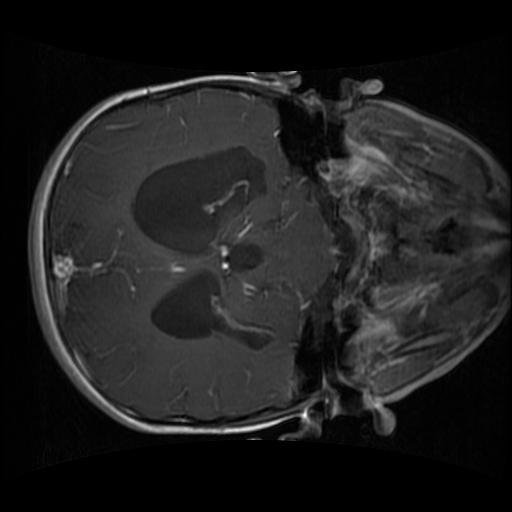glioma: (127, 144, 269, 261)
